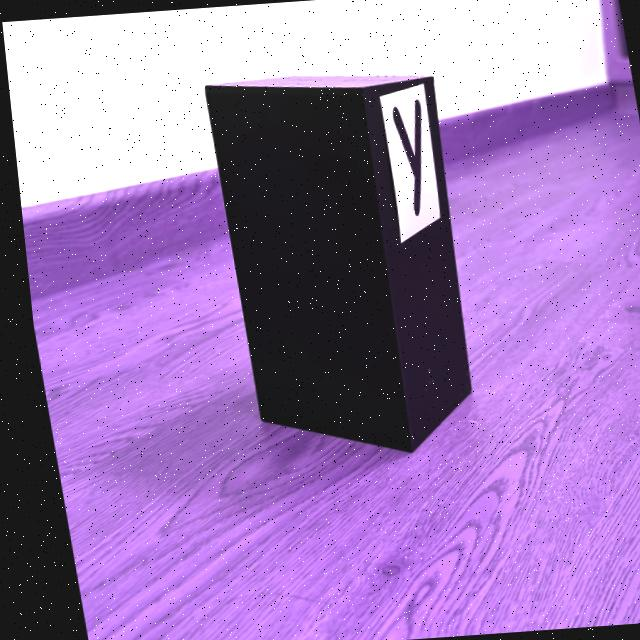Y: (390, 98, 419, 216)
